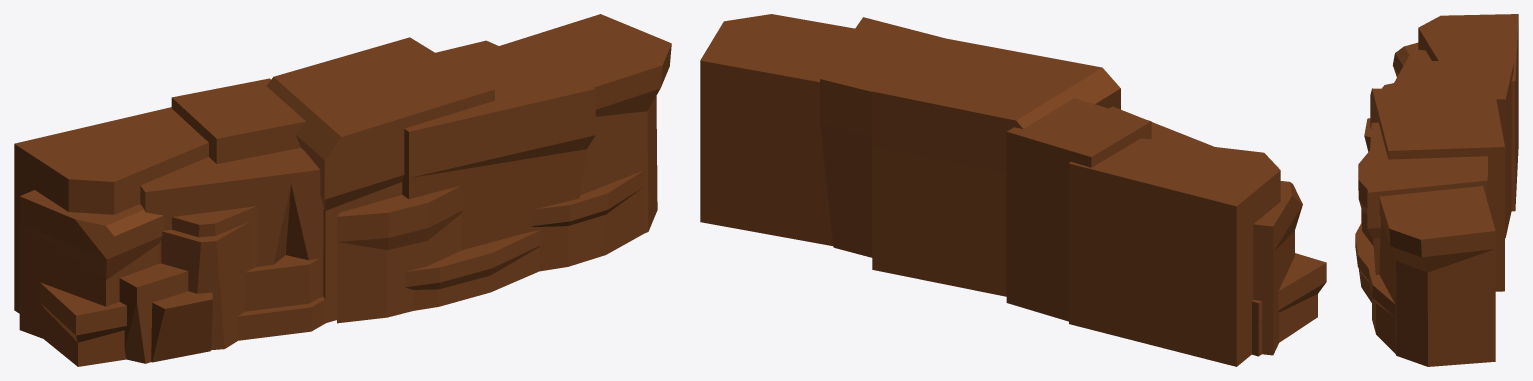
The model's file is Cliff_03.fbx.
3 renders of one model, left to right at view 1: azimuth 30°, elevation 25°; view 2: azimuth 150°, elevation 25°; view 3: azimuth 270°, elevation 25°, orthographic. The views are drawn at different scales.
Visible parts, largest first — view 1: Cliff_03; view 2: Cliff_03; view 3: Cliff_03.
Boxes of the visible parts, <box> form: Cliff_03: <box>14,14,671,366</box>; Cliff_03: <box>700,14,1326,366</box>; Cliff_03: <box>1355,14,1518,366</box>.
Bounding box in the file's own units: 2909 × 842 × 863.
